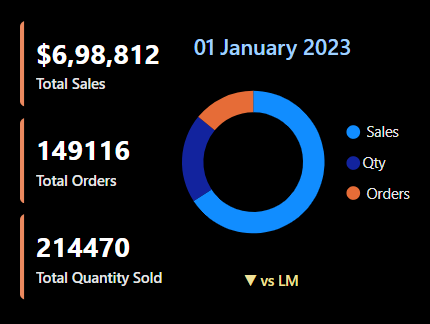

Layout of this report page (visuals, bound fields, positions):
{"tool":"powerbi","page":{"name":"Tool tip for calendar chart","canvas":[320,240],"ordinal":1},"visuals":[{"type":"cardVisual","fields":{"Data":["Transactions.Total Sales","Transactions.Total Orders","Transactions.Total Quantity Sold"]},"box":[0,0,168,240],"z":0},{"type":"donutChart","fields":{"Y":["Transactions.Total Sales","Transactions.Total Quantity Sold","Transactions.Total Orders"]},"box":[116,50,202,141],"z":1000},{"type":"cardVisual","fields":{"Data":["Min(Date Table.Date)"]},"box":[116,0,197,68],"z":2000},{"type":"cardVisual","fields":{"Data":["Transactions.Mom growth and diff"]},"box":[101,172,202,68],"z":3000}]}

Visuals, with their boxes in screenshot pixels (x1, y1, x2, y2), scaled from the page's 320x240 canvas onto the 430x324 screenshot:
cardVisual - Transactions.Total Sales x Transactions.Total Orders: bbox=[0, 0, 226, 323]
donutChart - Transactions.Total Sales x Transactions.Total Quantity Sold: bbox=[156, 68, 427, 258]
cardVisual - Min(Date Table.Date): bbox=[156, 0, 421, 92]
cardVisual - Transactions.Mom growth and diff: bbox=[136, 232, 407, 323]
